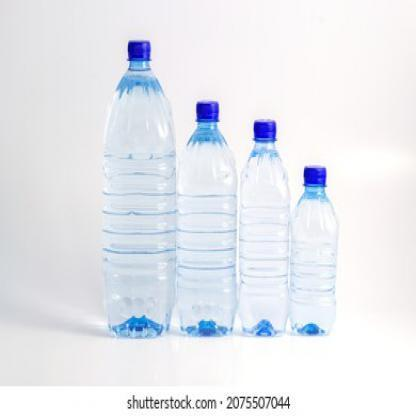bottle: (89, 30, 182, 351), (172, 92, 238, 350), (291, 152, 342, 350), (247, 114, 274, 344)
